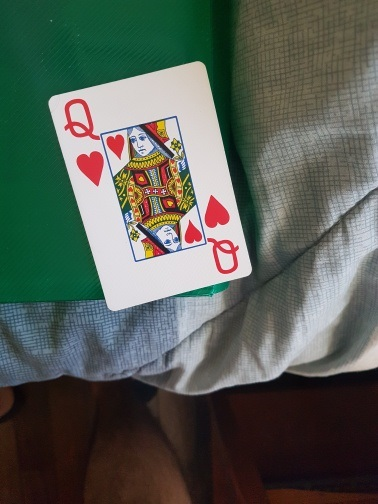queen: (47, 61, 253, 310)
